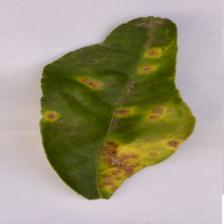canker: (67, 80, 187, 201)
